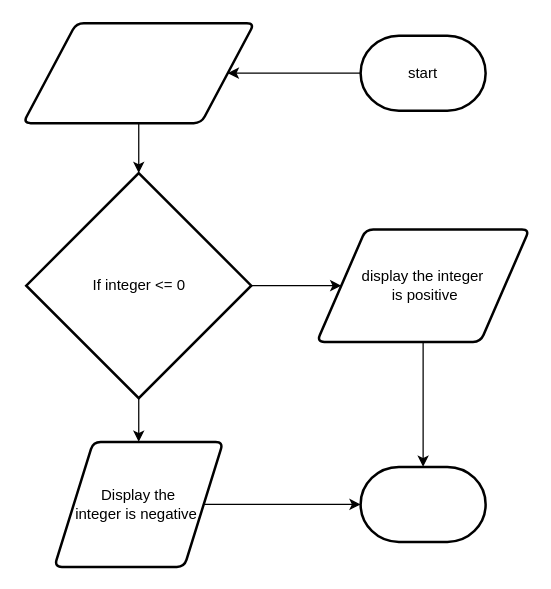
Some shapes in this 551 by 589 pixel diagram are drawn without their labels. The shapes that lost their labels are listed below. From the top down, each one's box as (x1, y1, x2, y2) in pixels, then its label:
(21, 21, 255, 124): User enter interger
(359, 465, 486, 542): stop
